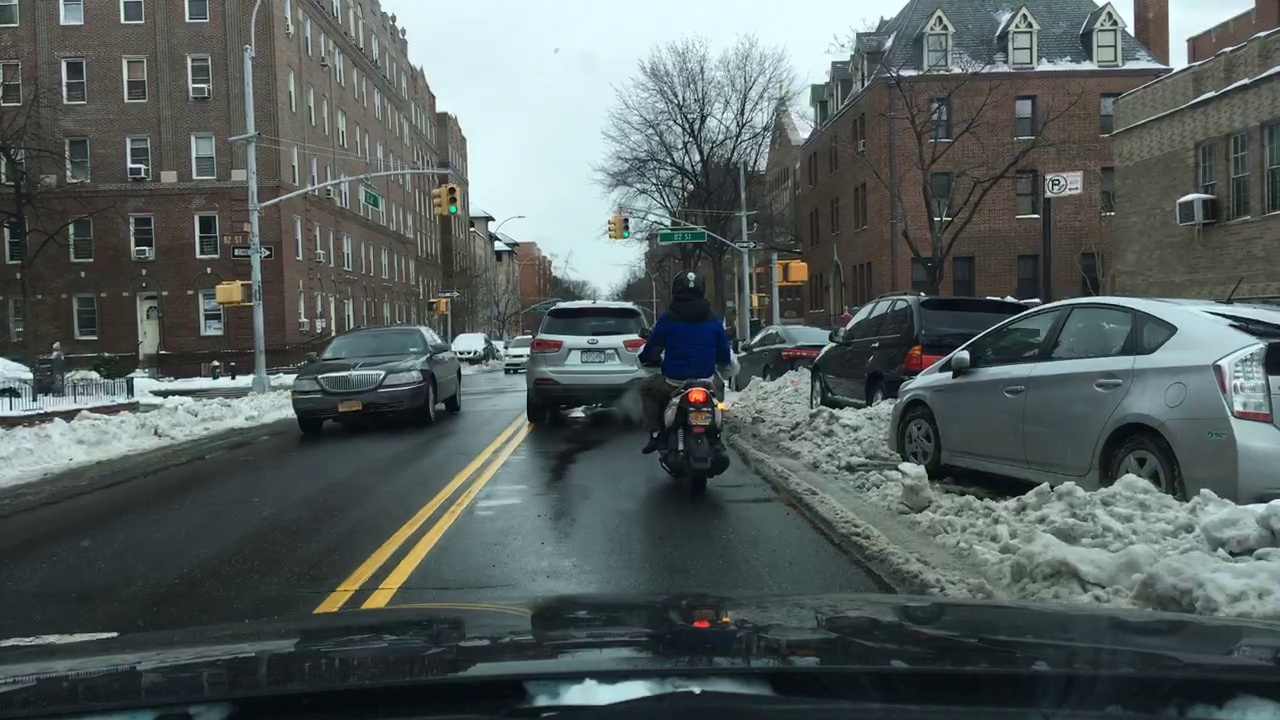car: (884, 295, 1277, 508), (808, 290, 1037, 432), (290, 324, 464, 435), (529, 298, 651, 426)
motorcycle: (649, 381, 741, 495)
person: (648, 271, 743, 442)
traffic light: (438, 178, 466, 223)
